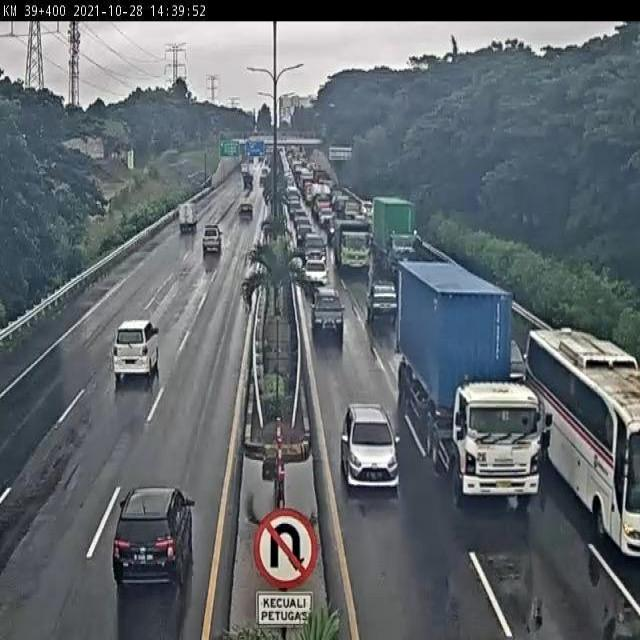big bus: (526, 324, 640, 559)
big truck: (401, 260, 543, 497), (374, 199, 416, 268), (334, 219, 371, 272)
car: (114, 488, 195, 592), (341, 406, 399, 486), (114, 322, 159, 378), (494, 333, 527, 391), (311, 288, 344, 335), (367, 281, 398, 319), (302, 232, 327, 263), (200, 224, 223, 257), (304, 259, 329, 285), (295, 226, 314, 246)
small truck: (177, 202, 198, 234)
